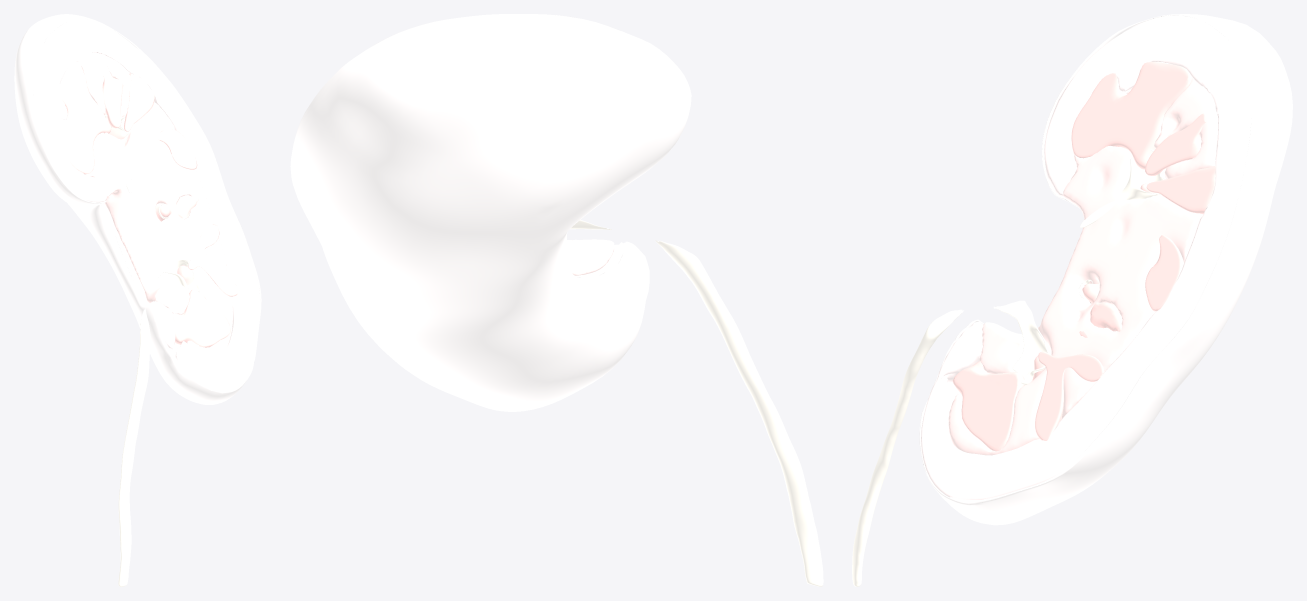
File: VHM_Kidney_L_Bisect_Posterior.glb
3 views of the same model, side by side, from view 1: azimuth 30°, elevation 25°; view 2: azimuth 150°, elevation 25°; view 3: azimuth 270°, elevation 25° (orthographic). The views are drawn at different scales.
Visible parts, largest first — view 1: VHM_Kidney_L_OuterCortex_Posterior, VHM_Kidney_L_RenalColumns_Posterior, VHM_Kidney_L_Pyramids_Posetrior, VHM_Kidney_L_Capsule_Posterior, VHM_Kidney_L_Calyses_Posterior; view 2: VHM_Kidney_L_Capsule_Posterior, VHM_Kidney_L_Calyses_Posterior, VHM_Kidney_L_RenalColumns_Posterior; view 3: VHM_Kidney_L_OuterCortex_Posterior, VHM_Kidney_L_RenalColumns_Posterior, VHM_Kidney_L_Capsule_Posterior, VHM_Kidney_L_Pyramids_Posetrior, VHM_Kidney_L_Calyses_Posterior.
Boxes of the visible parts, bbox=[...] form: VHM_Kidney_L_OuterCortex_Posterior: bbox=[33, 18, 260, 390]; VHM_Kidney_L_RenalColumns_Posterior: bbox=[77, 52, 232, 362]; VHM_Kidney_L_Pyramids_Posetrior: bbox=[55, 61, 239, 347]; VHM_Kidney_L_Capsule_Posterior: bbox=[14, 14, 261, 404]; VHM_Kidney_L_Calyses_Posterior: bbox=[104, 114, 200, 586]; VHM_Kidney_L_Capsule_Posterior: bbox=[290, 14, 691, 411]; VHM_Kidney_L_Calyses_Posterior: bbox=[570, 219, 823, 586]; VHM_Kidney_L_RenalColumns_Posterior: bbox=[566, 239, 614, 275]; VHM_Kidney_L_OuterCortex_Posterior: bbox=[921, 15, 1251, 499]; VHM_Kidney_L_RenalColumns_Posterior: bbox=[948, 78, 1217, 455]; VHM_Kidney_L_Capsule_Posterior: bbox=[919, 14, 1292, 525]; VHM_Kidney_L_Pyramids_Posetrior: bbox=[952, 62, 1215, 451]; VHM_Kidney_L_Calyses_Posterior: bbox=[852, 149, 1166, 586].
Bounding box in the file's own units: 0.0931 × 0.1792 × 0.1187.
